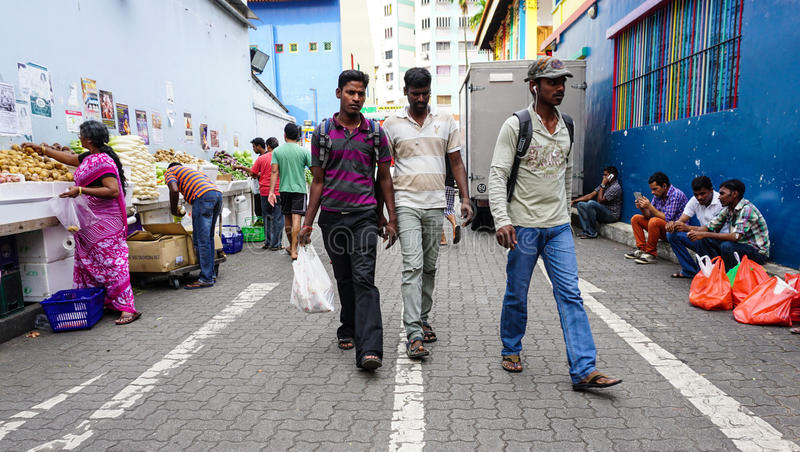person: (484, 52, 626, 403), (287, 63, 397, 363), (380, 63, 480, 370), (38, 106, 150, 340), (161, 158, 230, 290), (695, 177, 777, 260), (620, 166, 680, 269), (263, 117, 306, 250)
